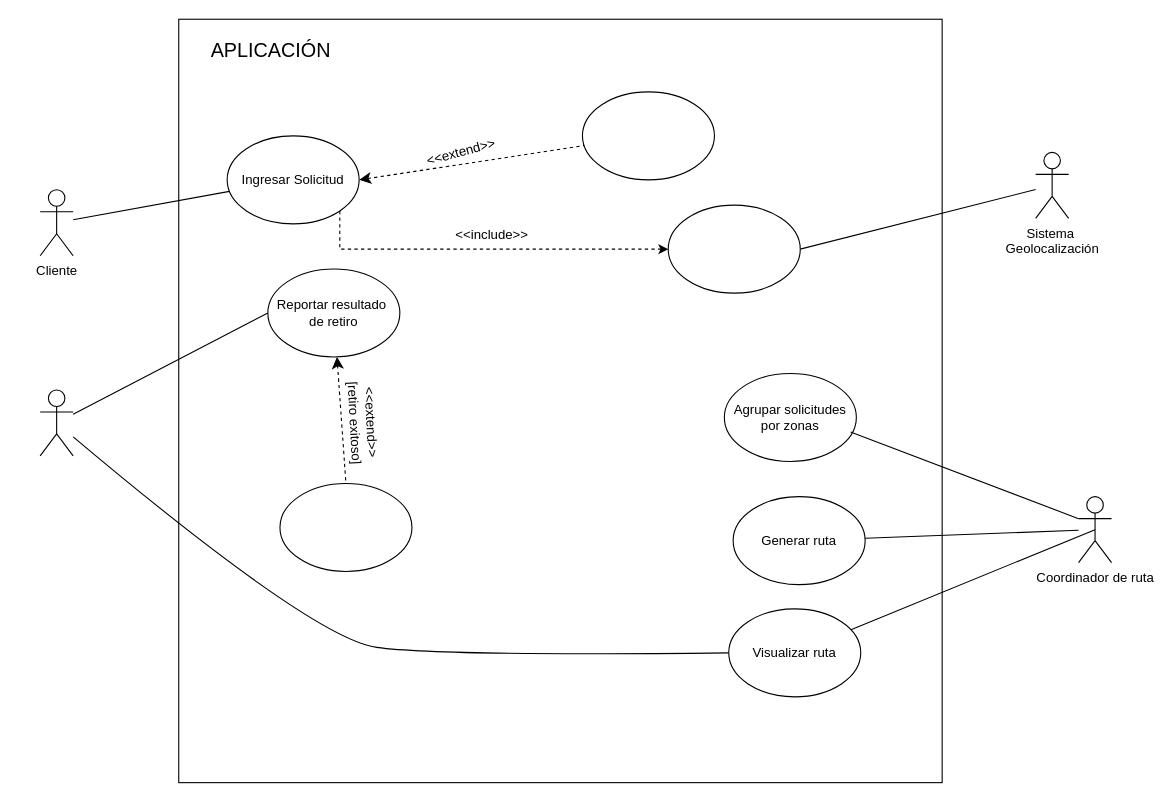
This 1173x802 diagram has some shape labels left out. Each missing label, with the centre of its shape:
"Emitir comprobante" belongs at [345,526].
"Recicladores" belongs at [56,422].
"Validar ubicación geográfica" belongs at [733,248].
"Ver Solicitud" belongs at [647,135].
